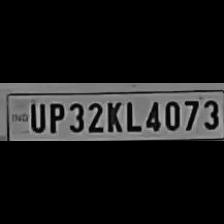0: (162, 97, 180, 130)
2: (85, 100, 103, 134)
3: (200, 96, 220, 130), (65, 100, 84, 134)
4: (140, 97, 162, 131)
7: (181, 96, 199, 132)
K: (104, 99, 124, 134)
L: (122, 98, 140, 134)
P: (46, 100, 64, 134)
U: (27, 100, 46, 134)
